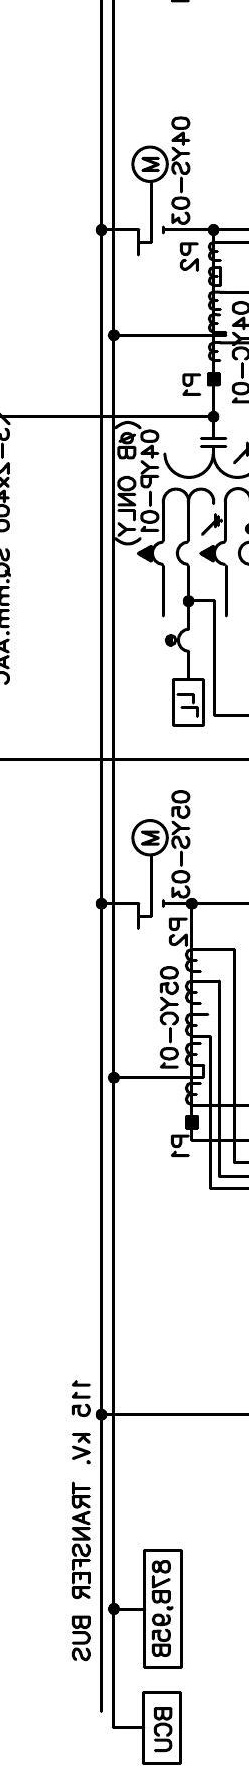115_1way_ds_w_motor: (130, 817, 170, 932), (130, 144, 170, 257)
BCU: (142, 1691, 183, 1766)
LL: (171, 677, 206, 727)
